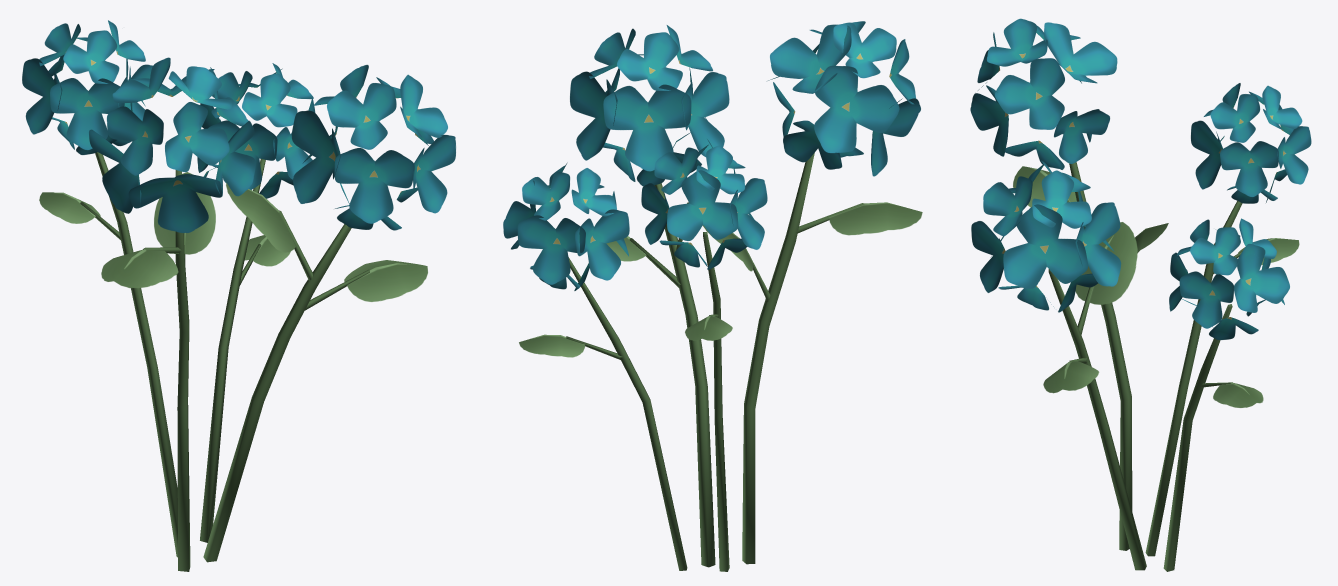
Rendered from flower_1_clump.glb.
3 views of the same model, side by side, from view 1: azimuth 30°, elevation 25°; view 2: azimuth 150°, elevation 25°; view 3: azimuth 270°, elevation 25° (orthographic). The views are drawn at different scales.
Parts seen in each view (by area): view 1: Flower_1_Clump; view 2: Flower_1_Clump; view 3: Flower_1_Clump.
Part boxes in pixels (left/top/right/bottom): Flower_1_Clump: left=22, top=20, right=455, bottom=571; Flower_1_Clump: left=503, top=21, right=922, bottom=571; Flower_1_Clump: left=970, top=18, right=1311, bottom=571.
Bounding box in the file's own units: 0.4711 × 0.6713 × 0.4352.
Materials: 1 (1 with a texture image).
